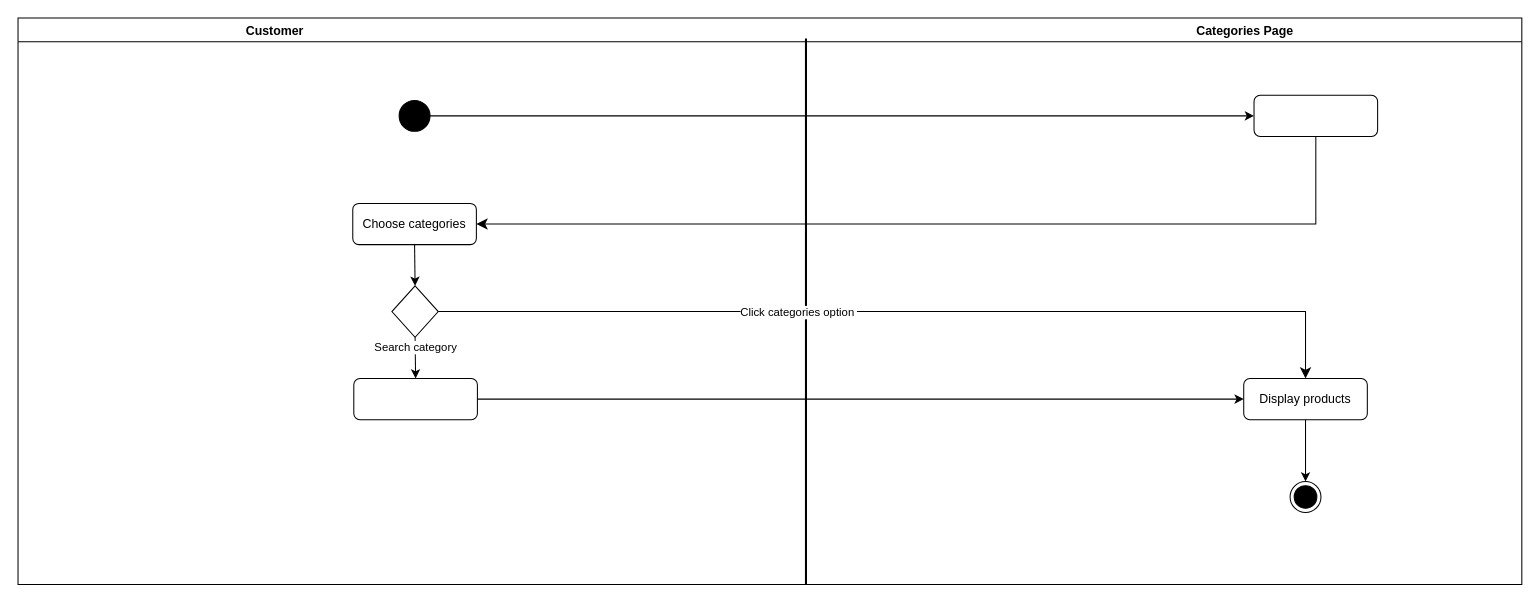
Some shapes in this 1540 by 604 pixel diagram are drawn without their labels. The centre of each missing label's shape, as x and y in pixels:
Display categories: [1315,115]
Type in keywords of desired category: [415,398]
